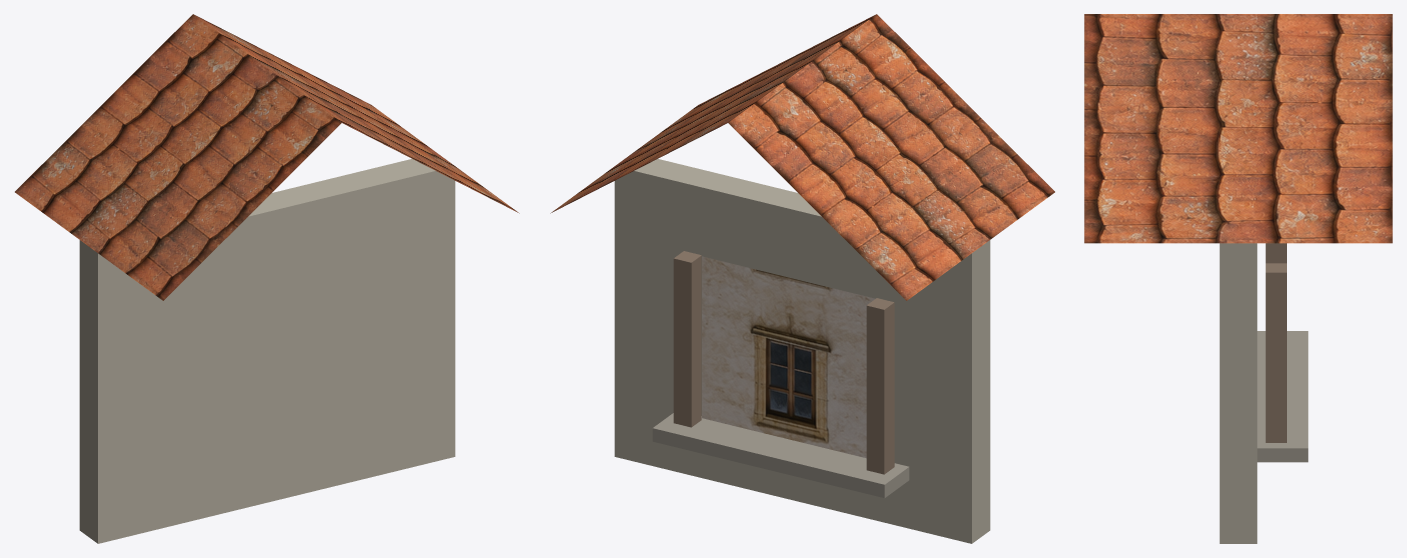
The model's file is dachgaube_klein_1_8m.glb.
The picture shows the model from 3 angles, left to right: view 1: azimuth 30°, elevation 25°; view 2: azimuth 150°, elevation 25°; view 3: azimuth 270°, elevation 25°; orthographic projection. The views are drawn at different scales.
Parts seen in each view (by area): view 1: gable_wall, roof_left, roof_right; view 2: gable_wall, roof_left, dormer_window, horizontal_sill, roof_right, left_trim, right_trim; view 3: roof_right, gable_wall, horizontal_sill, right_trim, left_trim.
Boxes of the visible parts, box(x1,y1,x2,y2) form: gable_wall: box(79, 159, 455, 543); roof_left: box(15, 14, 341, 300); roof_right: box(195, 15, 519, 213); gable_wall: box(614, 159, 990, 543); roof_left: box(728, 14, 1054, 300); dormer_window: box(702, 256, 875, 458); horizontal_sill: box(652, 413, 909, 498); roof_right: box(550, 15, 874, 213); left_trim: box(866, 298, 894, 474); right_trim: box(673, 251, 701, 427); roof_right: box(1084, 14, 1392, 243); gable_wall: box(1219, 243, 1257, 543); horizontal_sill: box(1257, 331, 1308, 462); right_trim: box(1265, 263, 1286, 442); left_trim: box(1265, 243, 1286, 263).
Bounding box in the file's own units: 1.8 × 2.05 × 1.3.
Materials: 2 (2 with a texture image).
